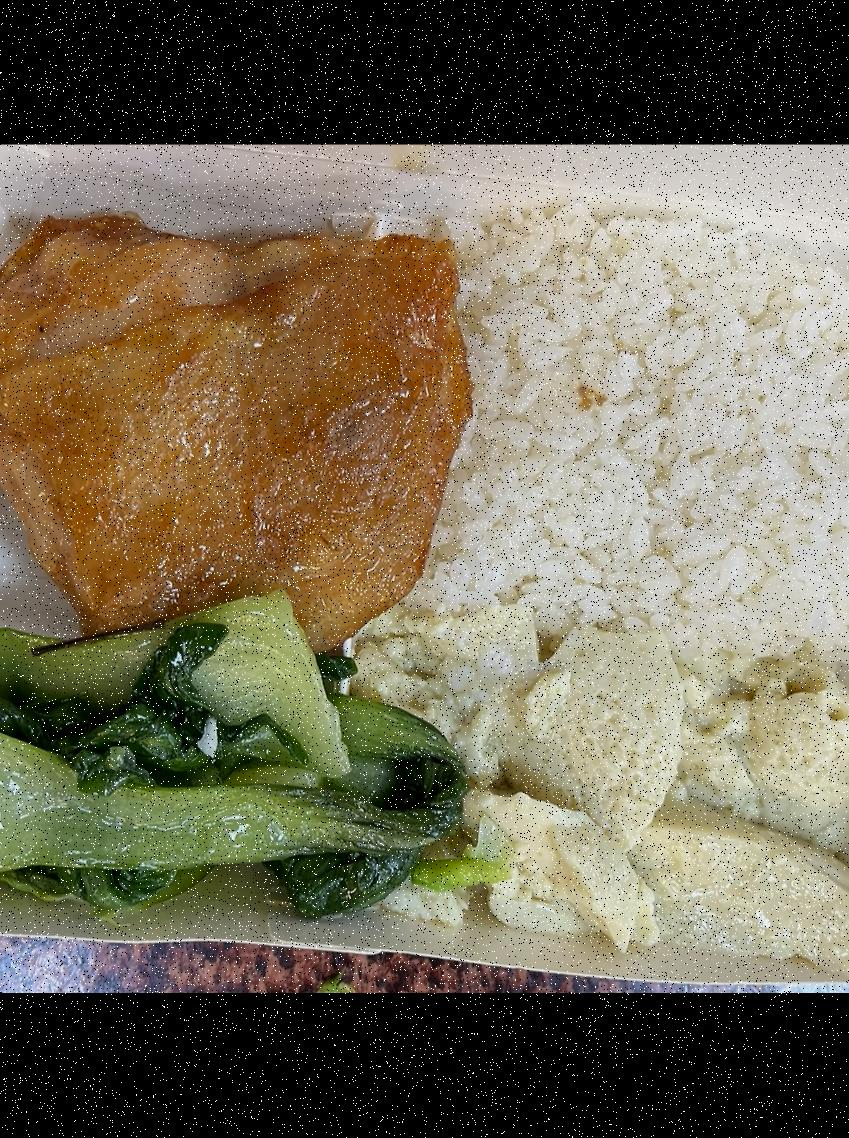big grilled chicken leg: (0, 144, 849, 993)
big herbal chicken leg: (423, 207, 849, 678)
braised fish fillet: (367, 619, 849, 975), (0, 581, 470, 928)
braised pork: (0, 220, 480, 669)
